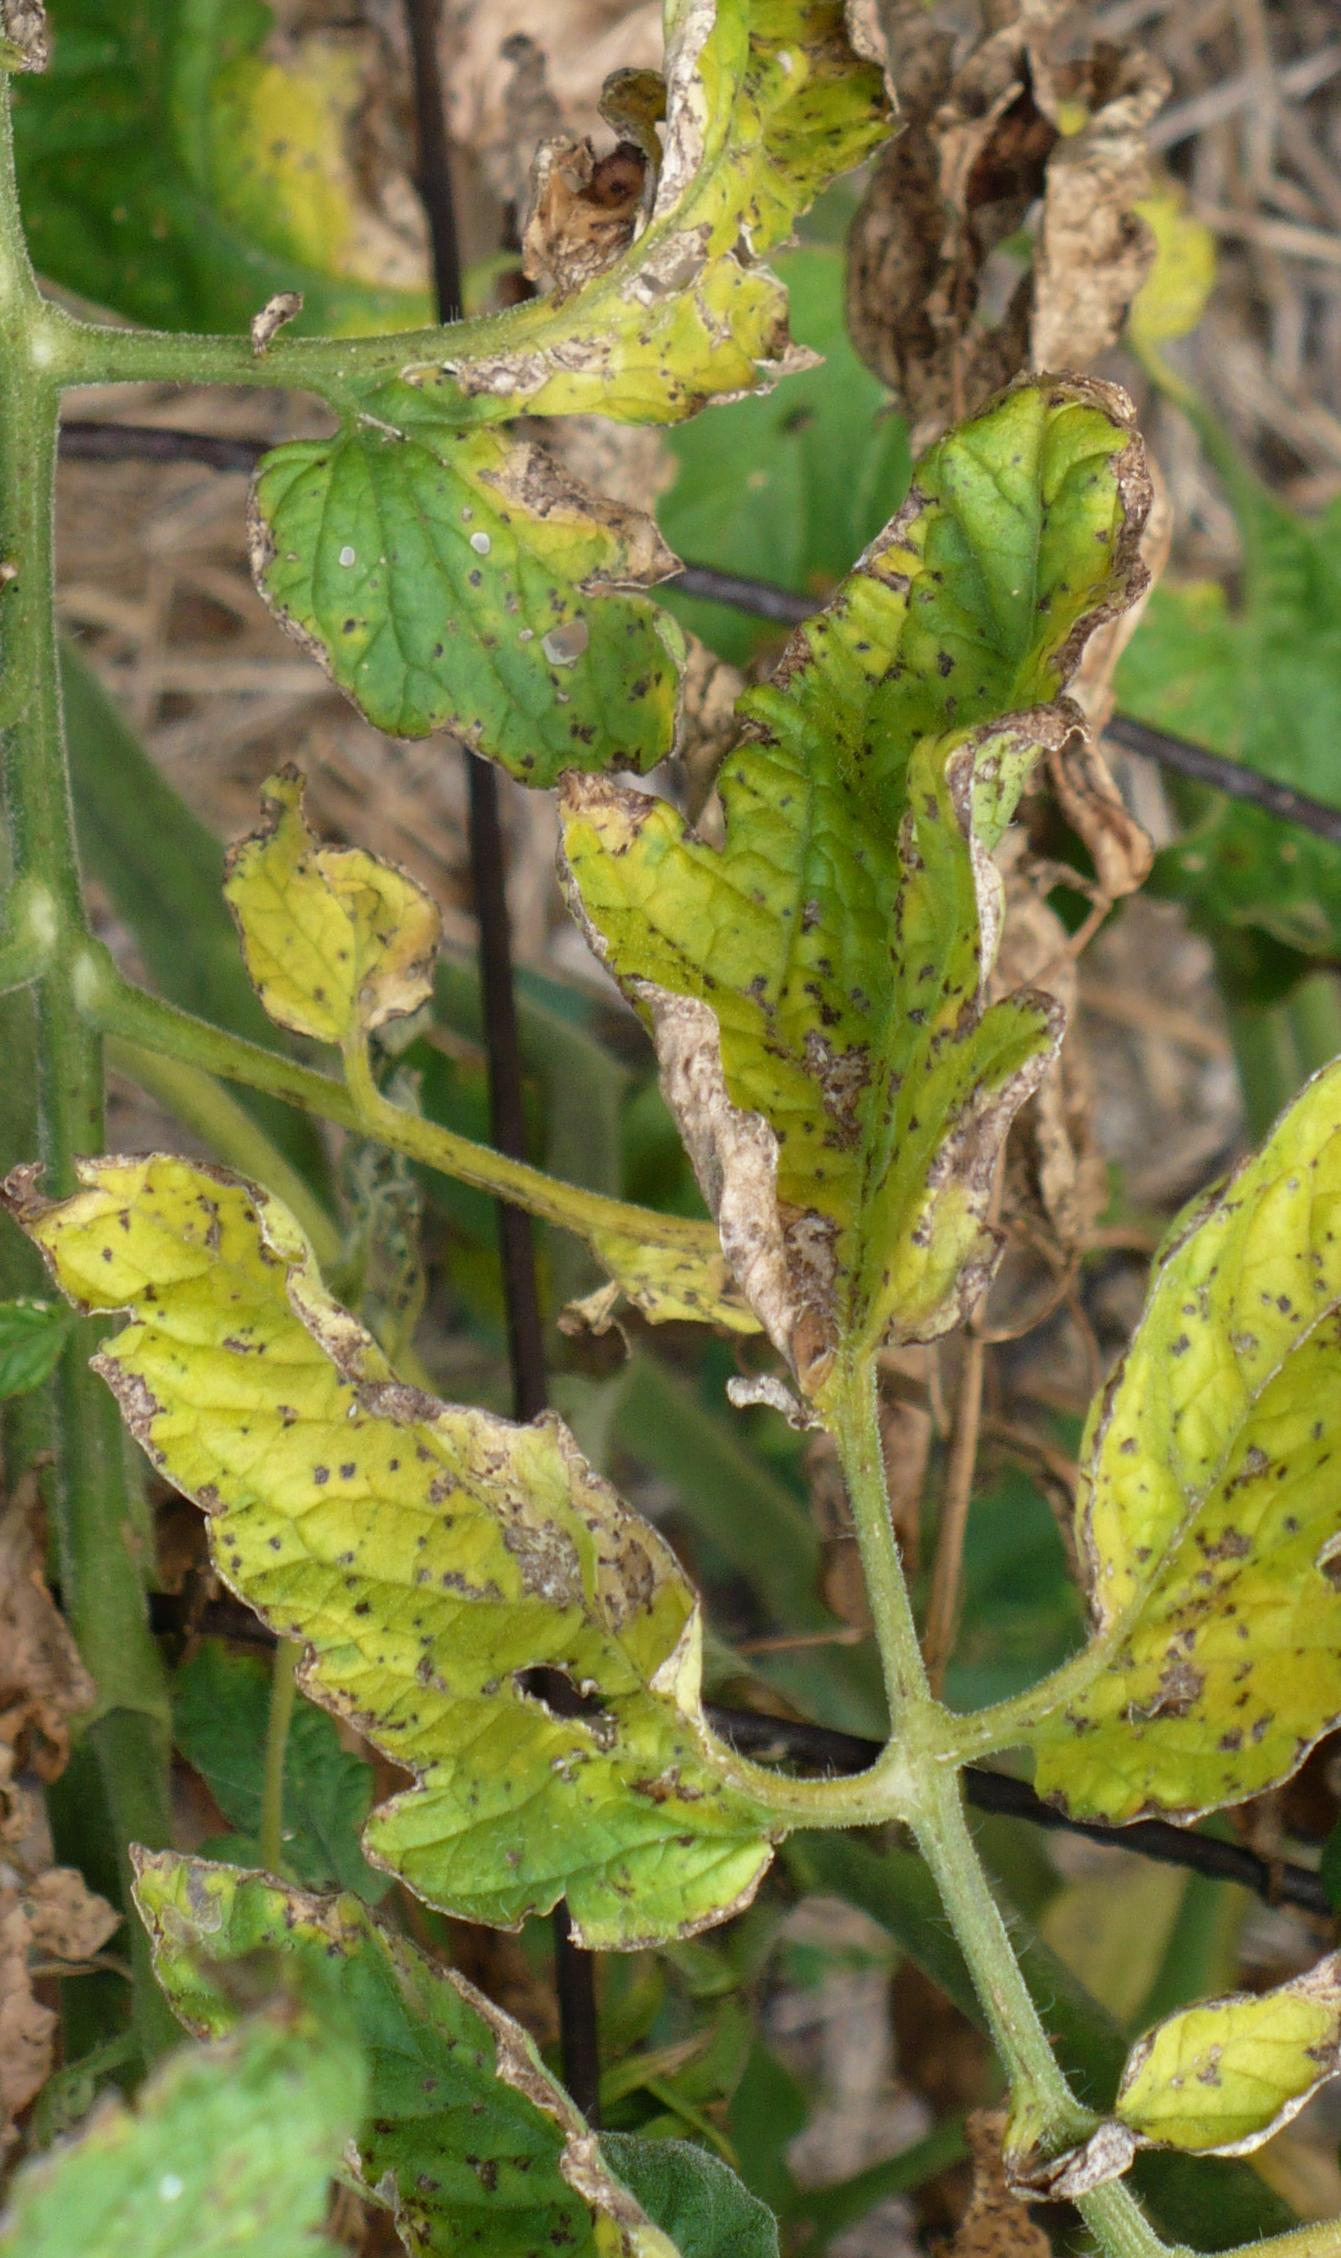Tomato Septoria leaf spot: (0, 1099, 838, 1971), (540, 405, 1196, 1363), (136, 0, 915, 737), (975, 1002, 1341, 1845)
